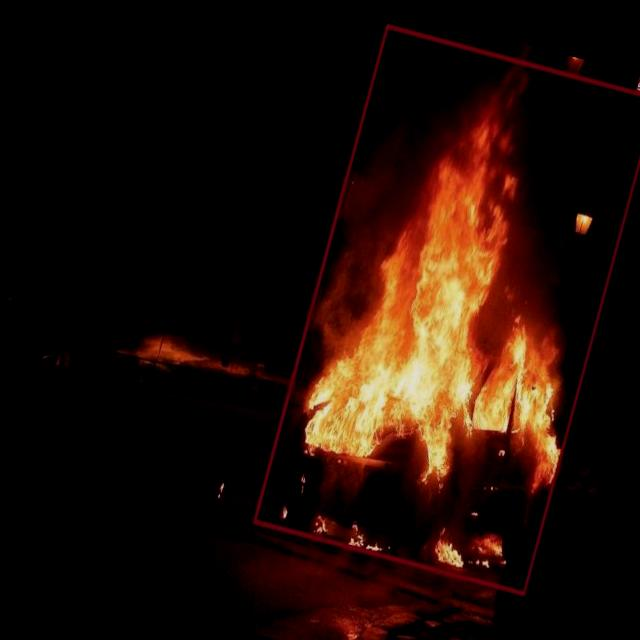fire: (253, 23, 640, 595)
